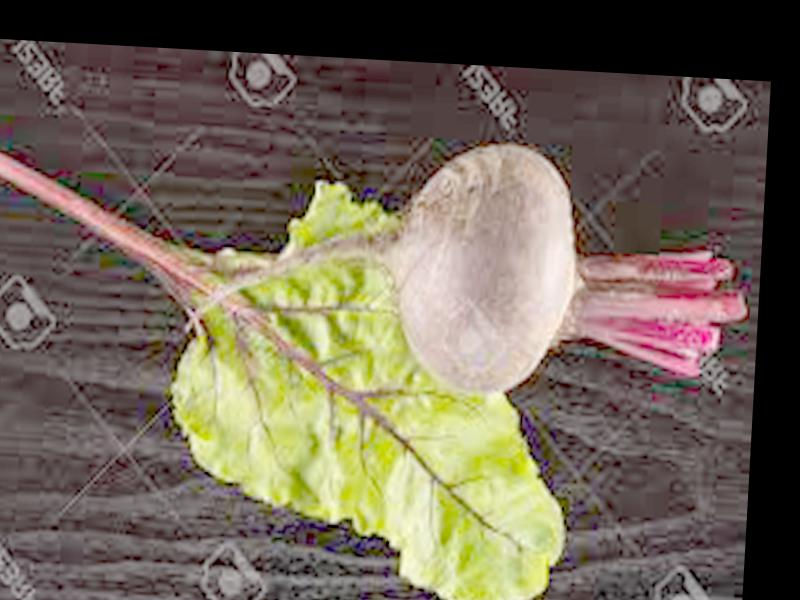Beet: (184, 128, 755, 407)
